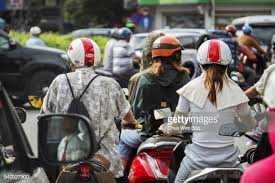helmet: (193, 34, 239, 91), (50, 36, 105, 73), (146, 32, 188, 66)
